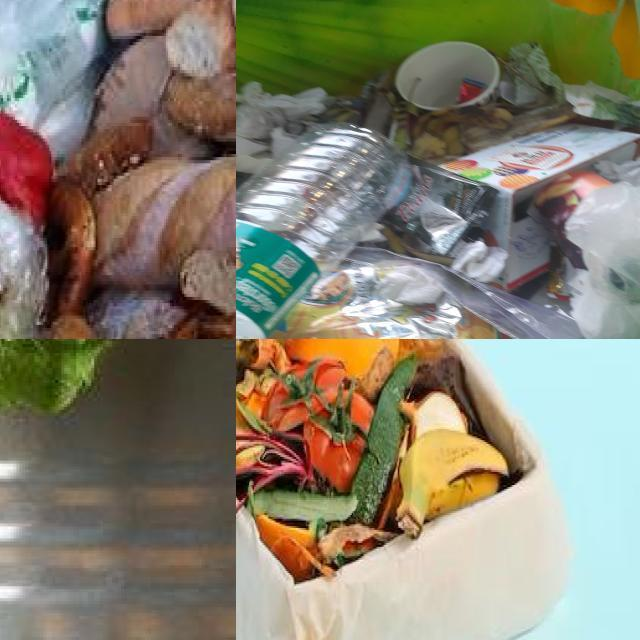Garbage: (236, 43, 640, 339), (236, 339, 541, 586)
Plastic_Bag: (561, 176, 640, 339), (439, 208, 443, 213)
Plastic_bottle: (236, 125, 411, 339)
Plastic_wraper: (268, 247, 585, 339), (383, 158, 496, 256), (546, 246, 571, 300), (455, 78, 486, 103)
Tetrapack: (441, 123, 640, 288)
